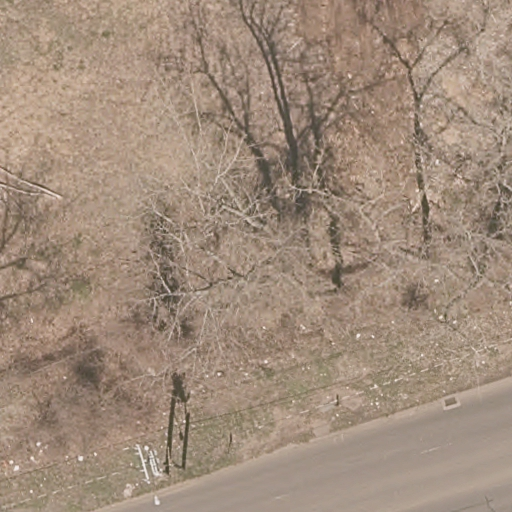DT: (133, 440, 164, 483)
